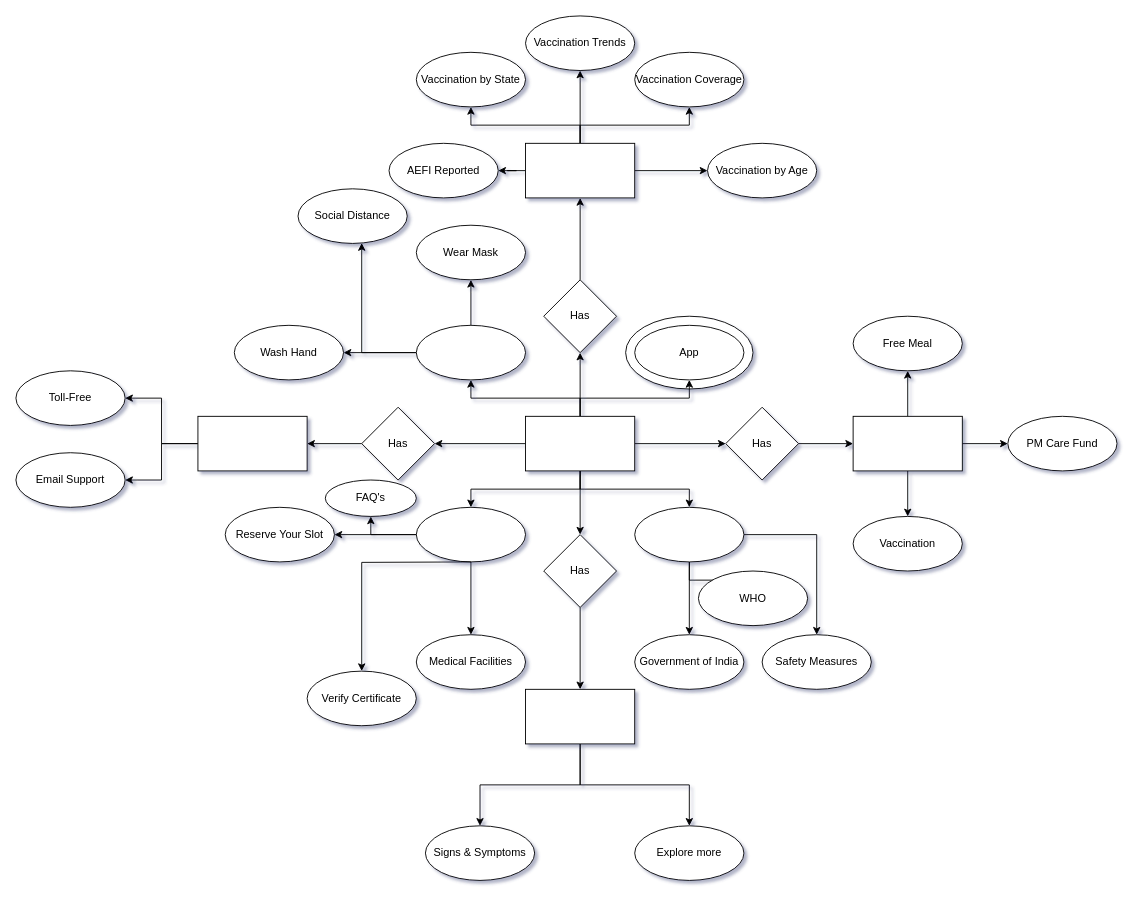
Some shapes in this 1138 by 902 pixel diagram are drawn without their labels. The shapes that lost their labels are listed below. From the top down, each one's box as (x1, y1, x2, y2) in pixels, then its label:
(525, 142, 635, 198): Dashboard
(415, 324, 526, 380): Informative
(197, 415, 307, 471): Contact Us
(525, 415, 635, 471): Home
(852, 415, 962, 471): Services
(415, 506, 526, 562): Utilities
(634, 506, 744, 562): Information
(525, 688, 635, 744): About
